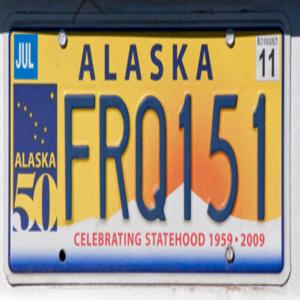Vehicle-registration-plate: (1, 11, 300, 280)
